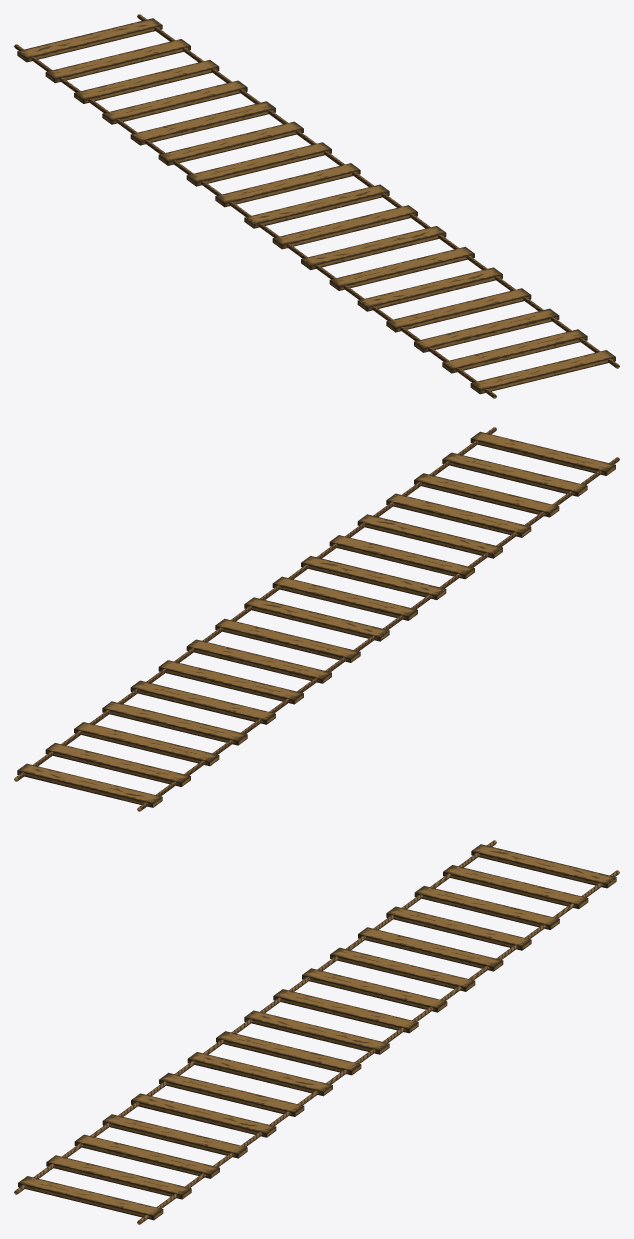
Rendered from puentersuelto.fbx.
3 renders of one model, top to bottom at view 1: azimuth 30°, elevation 25°; view 2: azimuth 150°, elevation 25°; view 3: azimuth 330°, elevation 25°, orthographic.
Parts seen in each view (by area): view 1: pCube31, pCube29, pCube32, pCube35, pCube23, pCube16, pCube18, pCube34, pCube1, pCube2, pCube3, pCube7 (+5 smaller); view 2: pCube7, pCube11, pCube23, pCube9, pCube16, pCube32, pCube3, pCube18, pCube29, pCube34, pCube1, pCube26 (+5 smaller); view 3: pCube31, pCube29, pCube32, pCube35, pCube23, pCube16, pCube18, pCube34, pCube1, pCube2, pCube3, pCube7 (+5 smaller).
Part boxes in pixels (left/top/right/bottom): pCube31: left=45, top=39, right=190, bottom=83; pCube29: left=17, top=18, right=162, bottom=62; pCube32: left=102, top=80, right=247, bottom=124; pCube35: left=186, top=142, right=331, bottom=186; pCube23: left=74, top=60, right=219, bottom=103; pCube16: left=442, top=329, right=587, bottom=373; pCube18: left=470, top=350, right=615, bottom=394; pCube34: left=130, top=101, right=275, bottom=145; pCube1: left=244, top=184, right=389, bottom=228; pCube2: left=272, top=205, right=417, bottom=249; pCube3: left=301, top=226, right=446, bottom=270; pCube7: left=357, top=267, right=502, bottom=311; pCube7: left=357, top=514, right=502, bottom=558; pCube11: left=414, top=473, right=559, bottom=517; pCube23: left=74, top=722, right=219, bottom=766; pCube9: left=386, top=493, right=531, bottom=537; pCube16: left=442, top=452, right=587, bottom=496; pCube32: left=102, top=701, right=247, bottom=745; pCube3: left=301, top=556, right=446, bottom=599; pCube18: left=470, top=431, right=615, bottom=475; pCube29: left=17, top=763, right=162, bottom=807; pCube34: left=130, top=680, right=275, bottom=724; pCube1: left=244, top=597, right=389, bottom=641; pCube26: left=158, top=660, right=303, bottom=704; pCube31: left=443, top=865, right=588, bottom=909; pCube29: left=471, top=844, right=616, bottom=888; pCube32: left=386, top=906, right=531, bottom=950; pCube35: left=302, top=968, right=447, bottom=1012; pCube23: left=414, top=886, right=559, bottom=929; pCube16: left=46, top=1155, right=191, bottom=1199; pCube18: left=18, top=1176, right=163, bottom=1220; pCube34: left=358, top=927, right=503, bottom=971; pCube1: left=244, top=1010, right=389, bottom=1054; pCube2: left=216, top=1031, right=361, bottom=1075; pCube3: left=187, top=1052, right=332, bottom=1096; pCube7: left=131, top=1093, right=276, bottom=1137.
Size of the model in its own units: 4.42 by 0.135 by 27.
